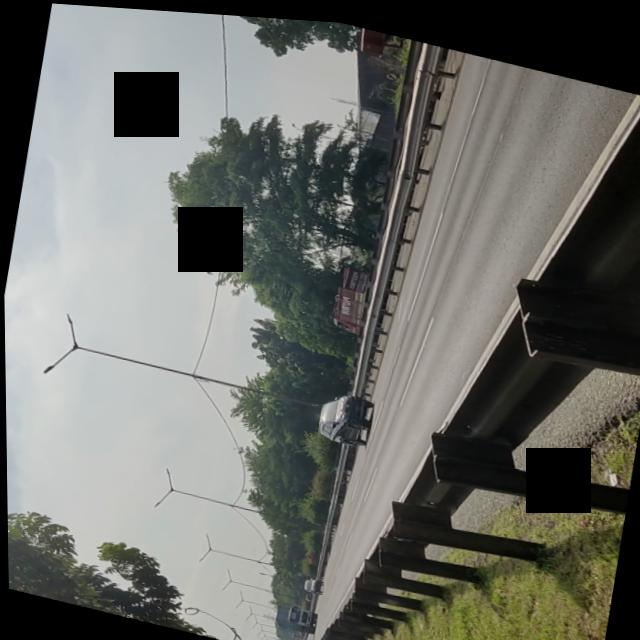Golongan I: (307, 379, 380, 448)
